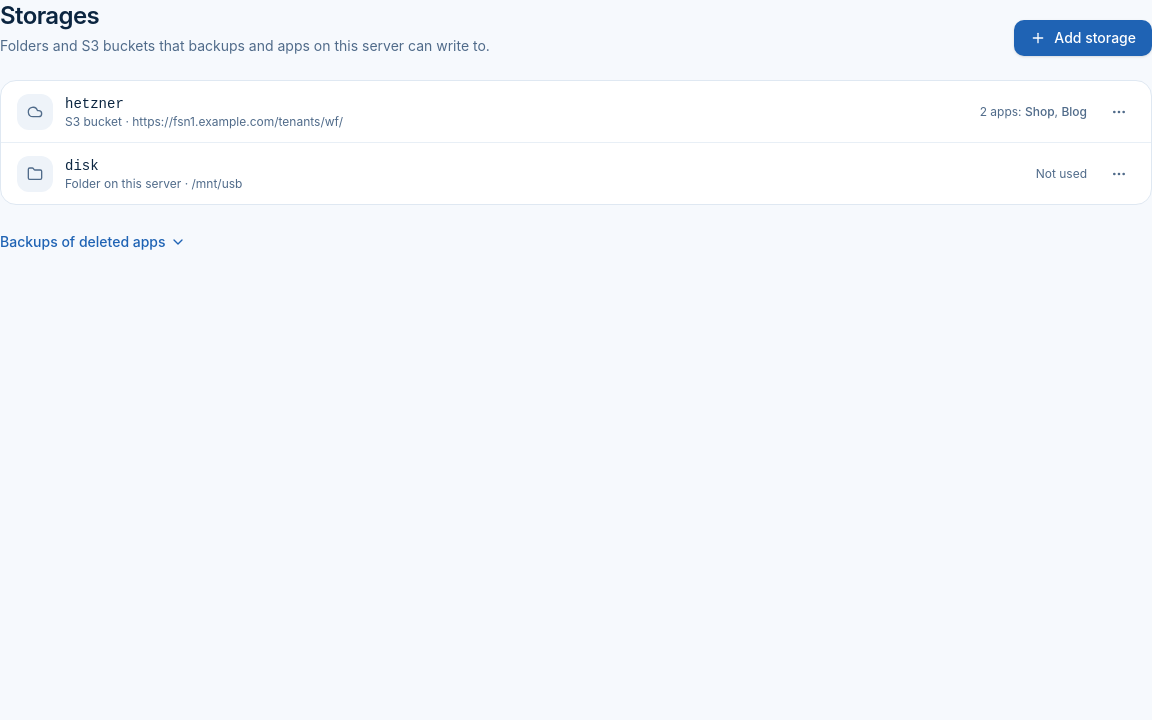
StoragesSettings › explains why a storage in use can't be removed, and confirms otherwise
This screenshot has width=1152, height=720.
Click the button named "Actions for hetzner".
click(1119, 112)  # box [1103,96,1135,128]
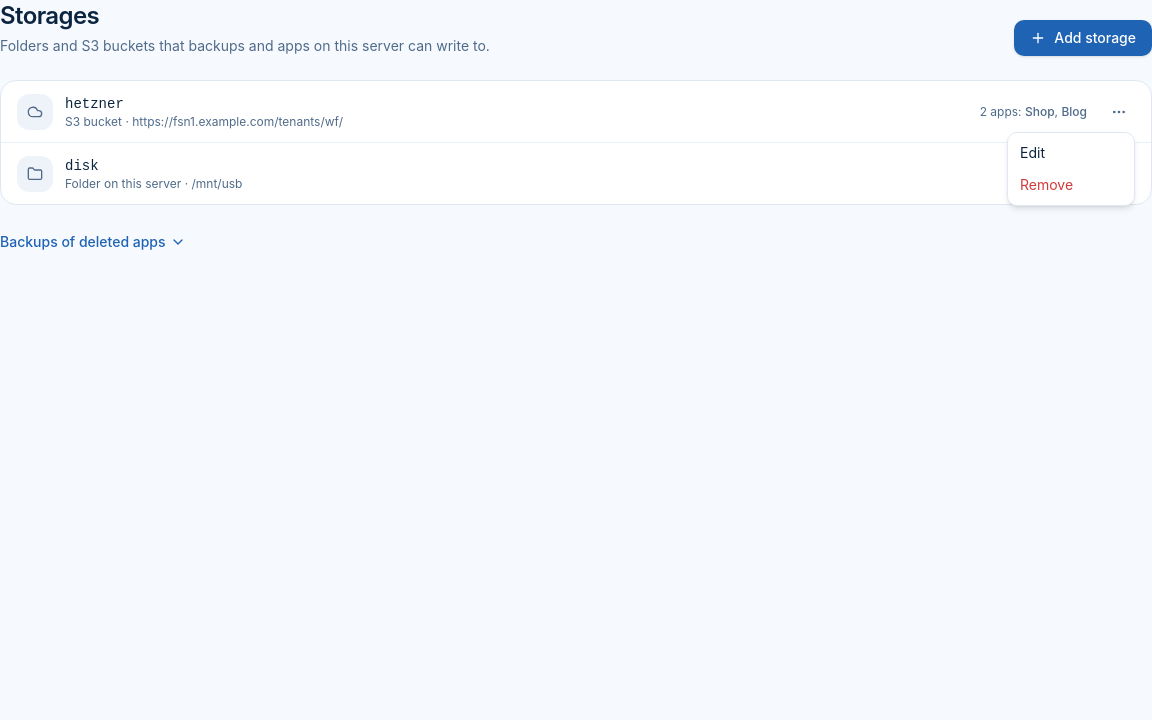
Click the menu item "Remove".
click(1047, 184)  # box [1020,176,1073,193]
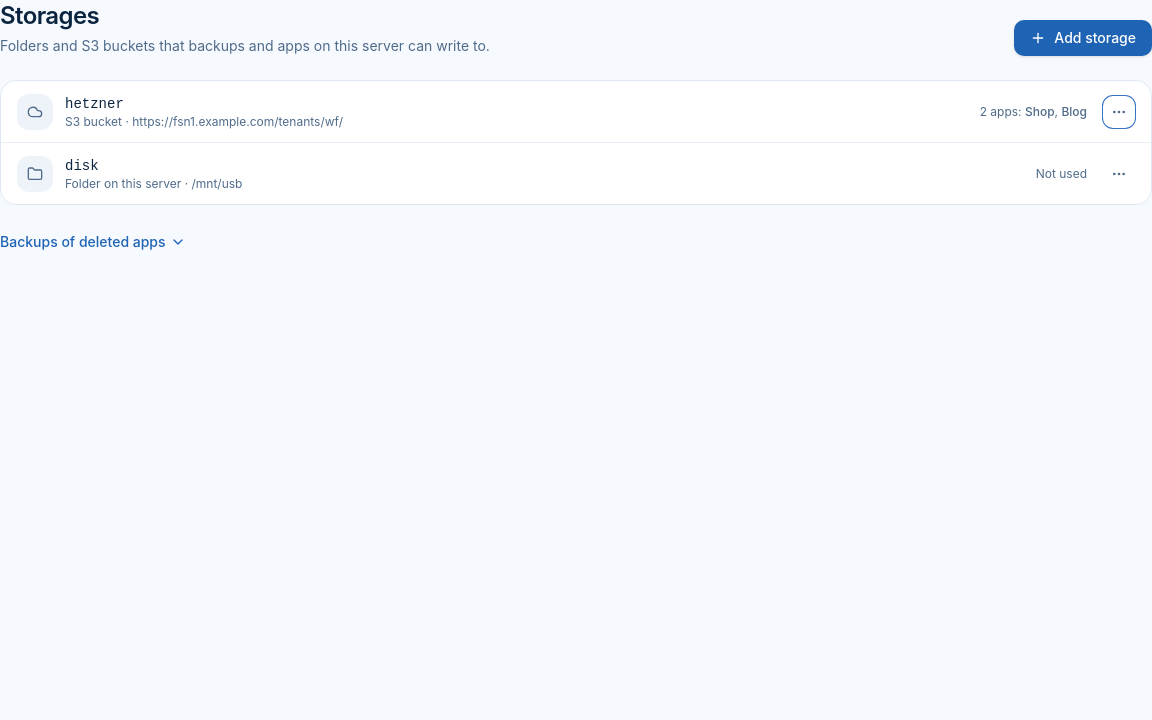
Click the button named "Actions for disk".
click(1119, 174)  # box [1103,158,1135,190]
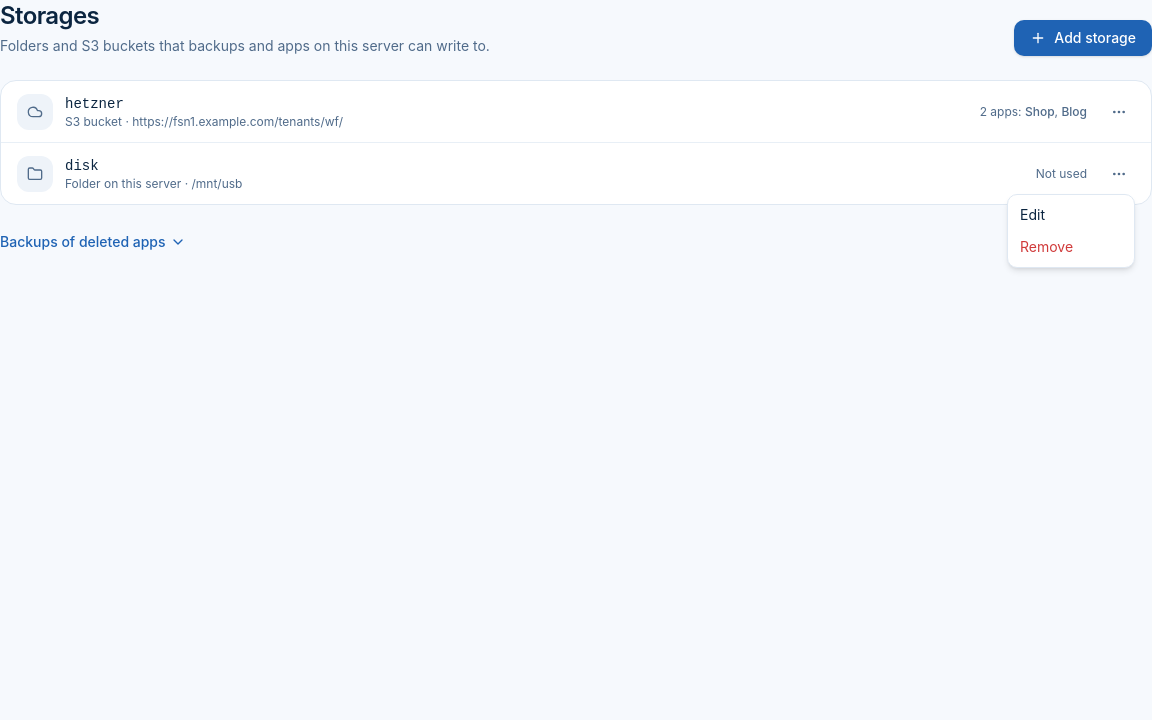
Click the menu item "Remove".
click(1047, 246)  # box [1020,238,1073,255]
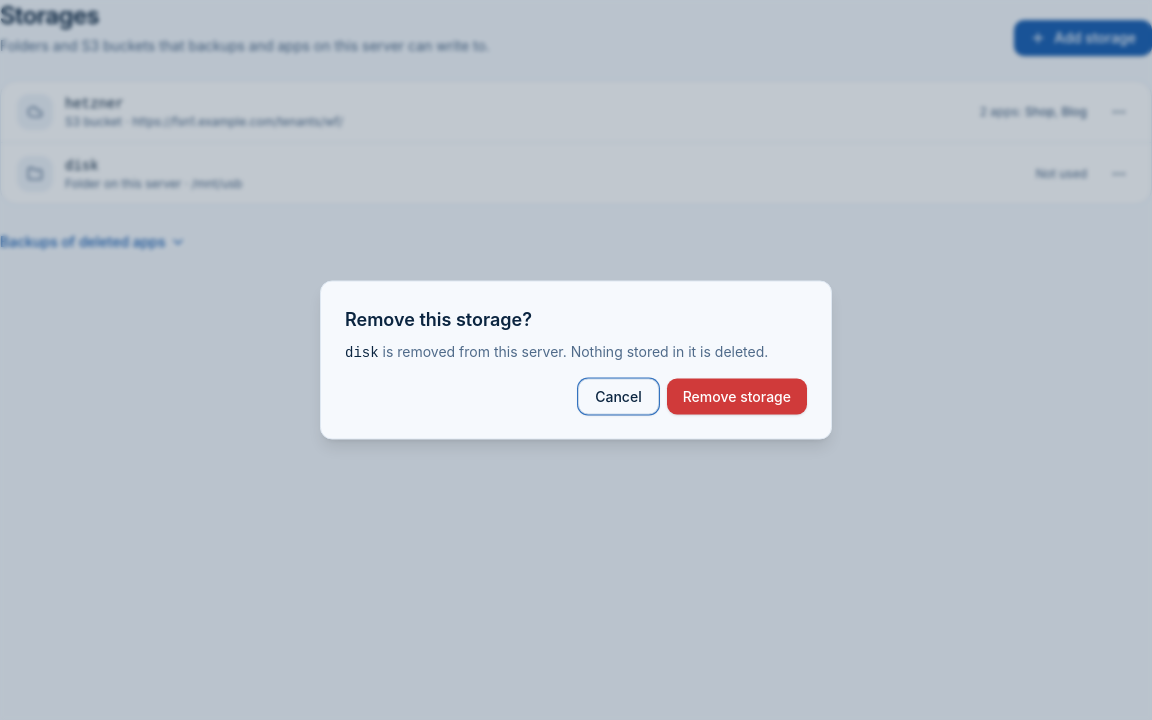
Check: the dialog shows "disk is removed from this server. Nothing stored in it is deleted.", box [320,280,832,440]
Click the button "Remove storage".
click(737, 396)  # box [667,378,807,414]
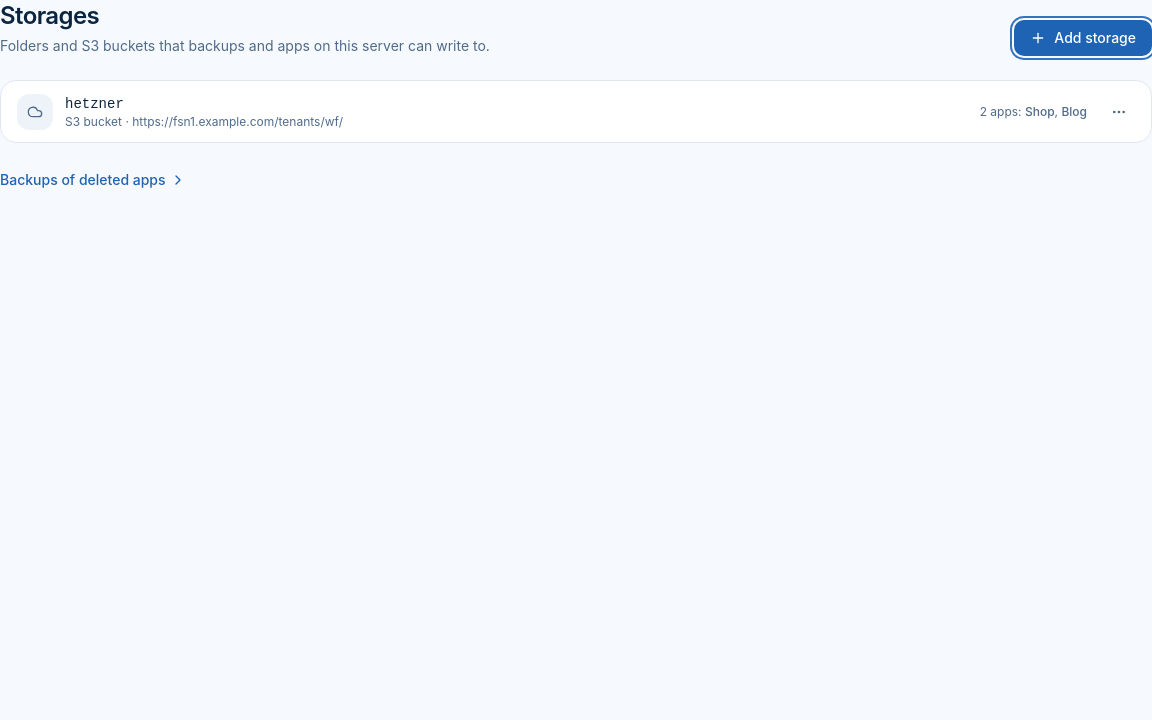
Check: the text "disk" is gone
